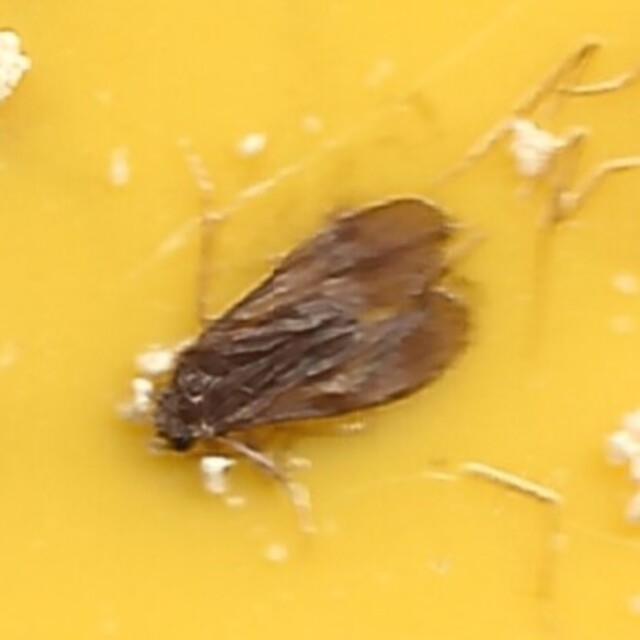Trichoptera: (156, 179, 484, 461)
